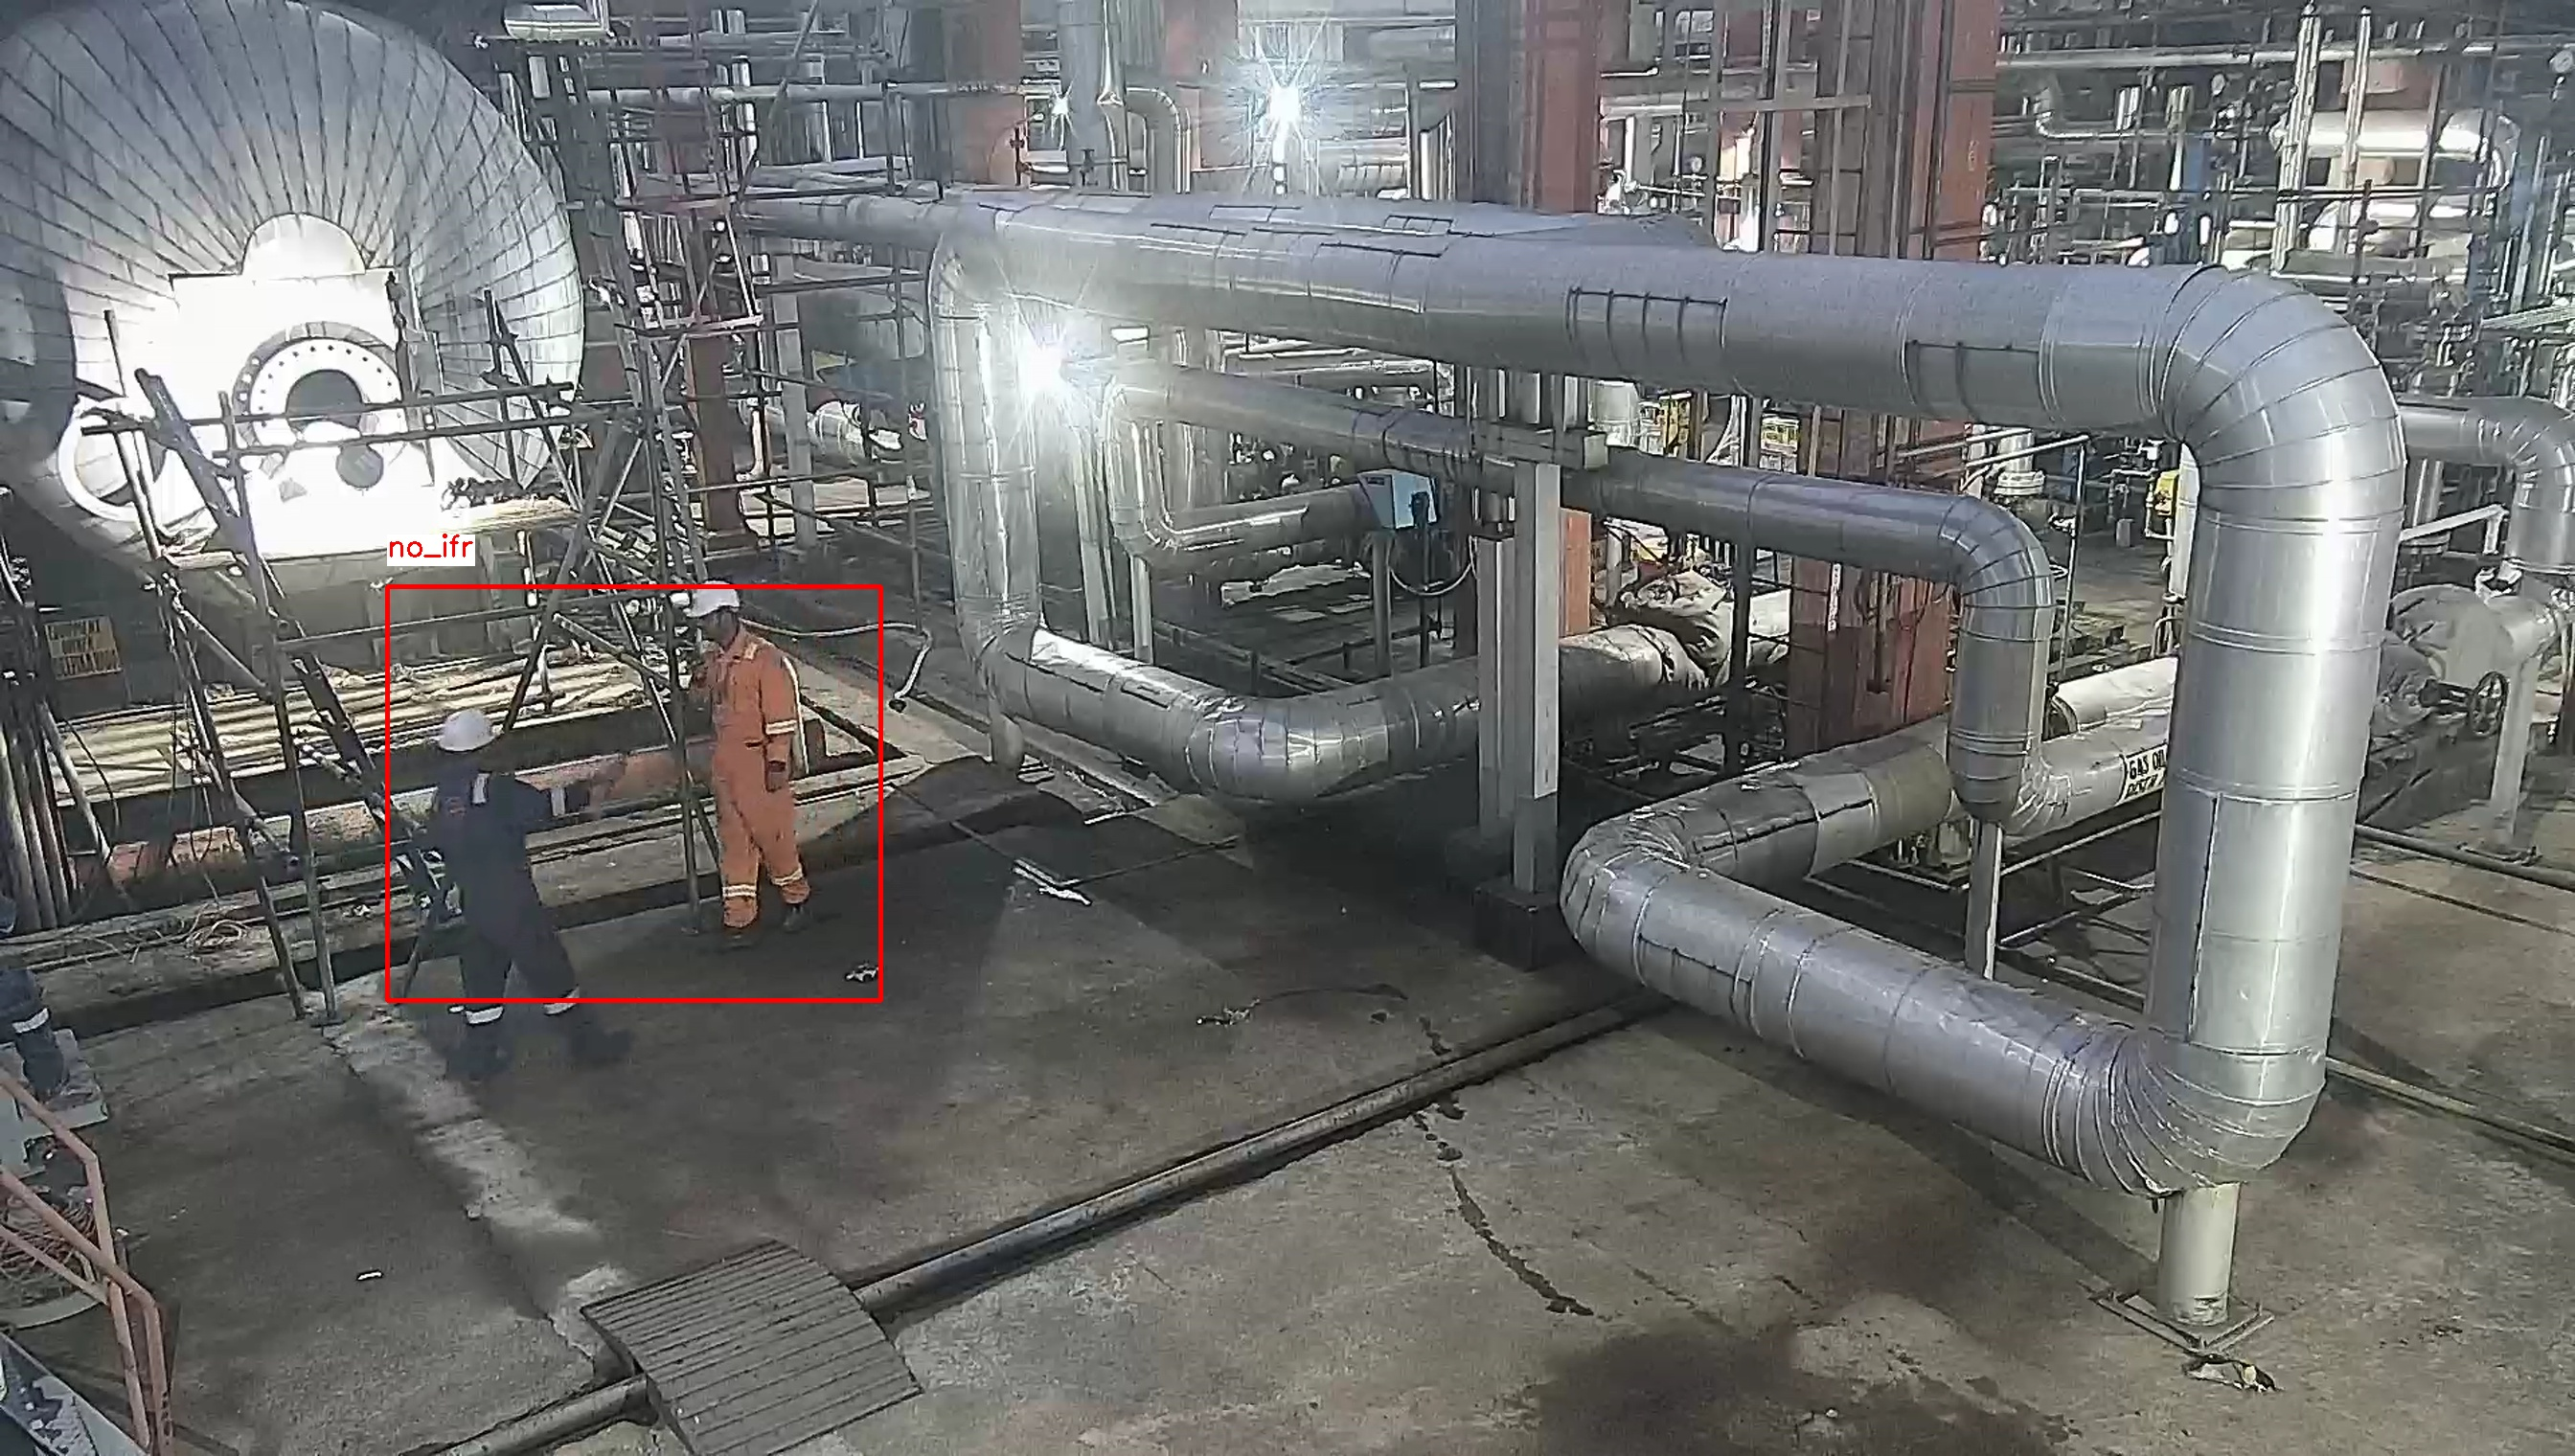Helmets: (432, 702, 502, 757)
IFR_Suit: (688, 639, 821, 913)
